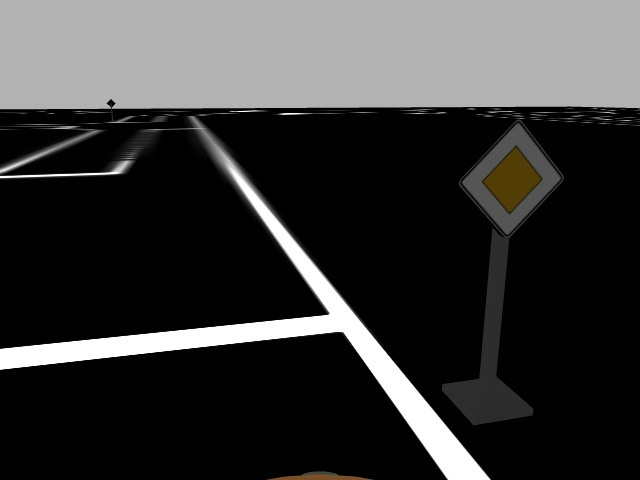priority: (456, 118, 564, 238)
